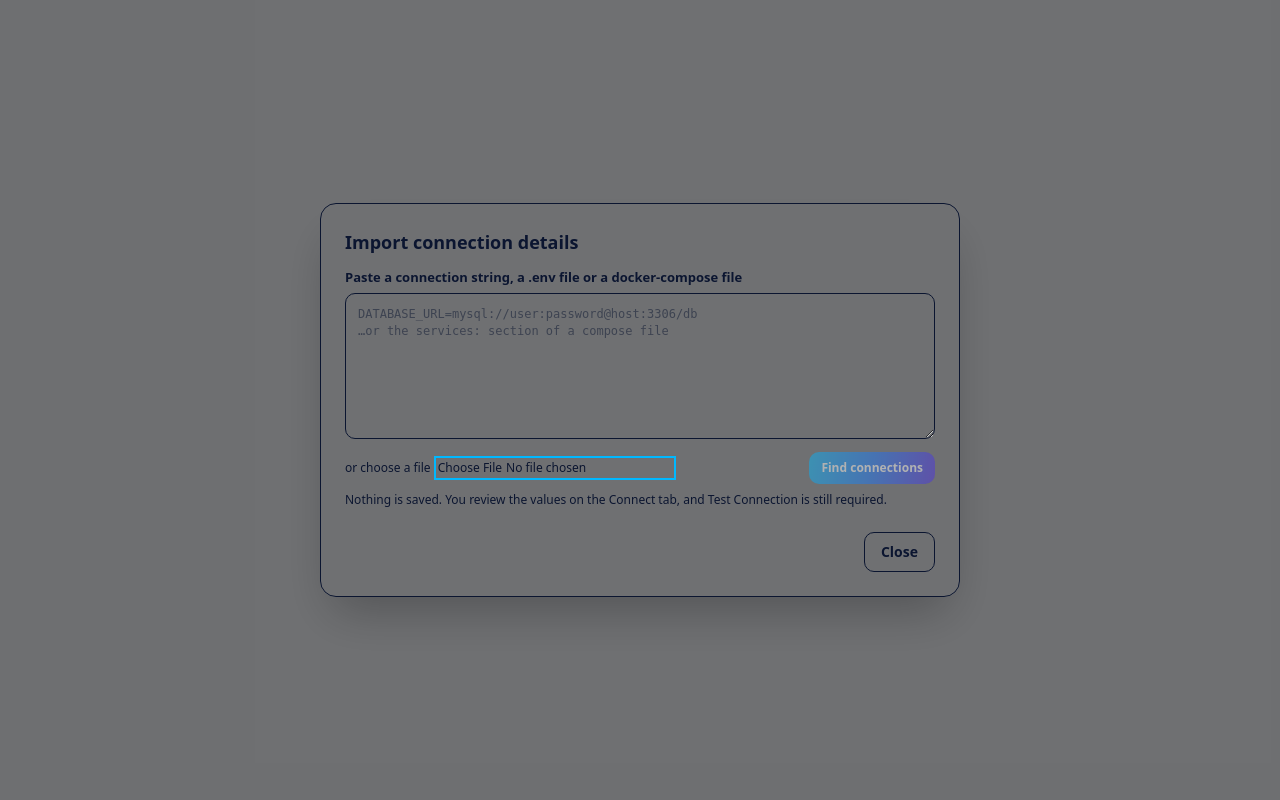
Test: ImportConnectionDialog › restricts to one technology and shows the server message for unrecognised input
This screenshot has width=1280, height=800.
Type "FOO=bar" into the text box labelled "Paste a connection string" at point(640, 366), box [345,293,935,439]
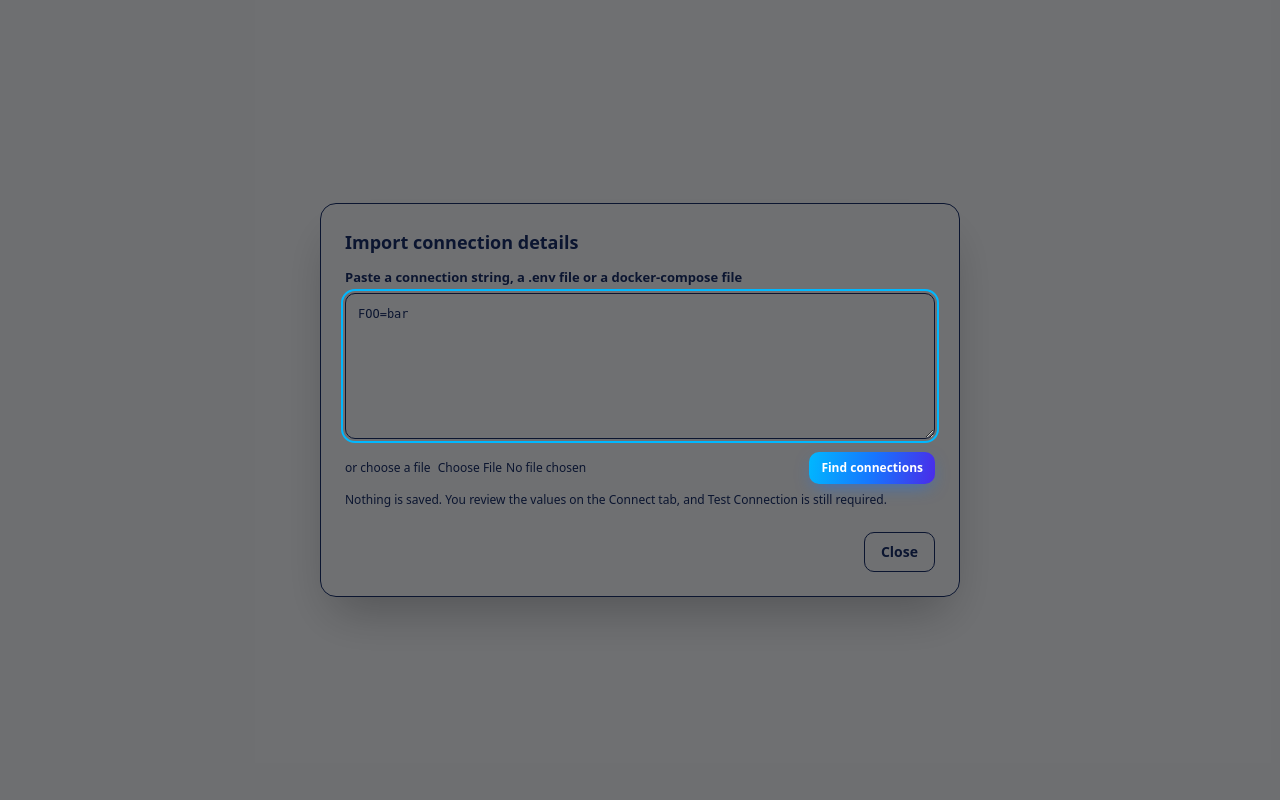
Click the button "Find connections" at point(872, 468), box [809,452,935,484]
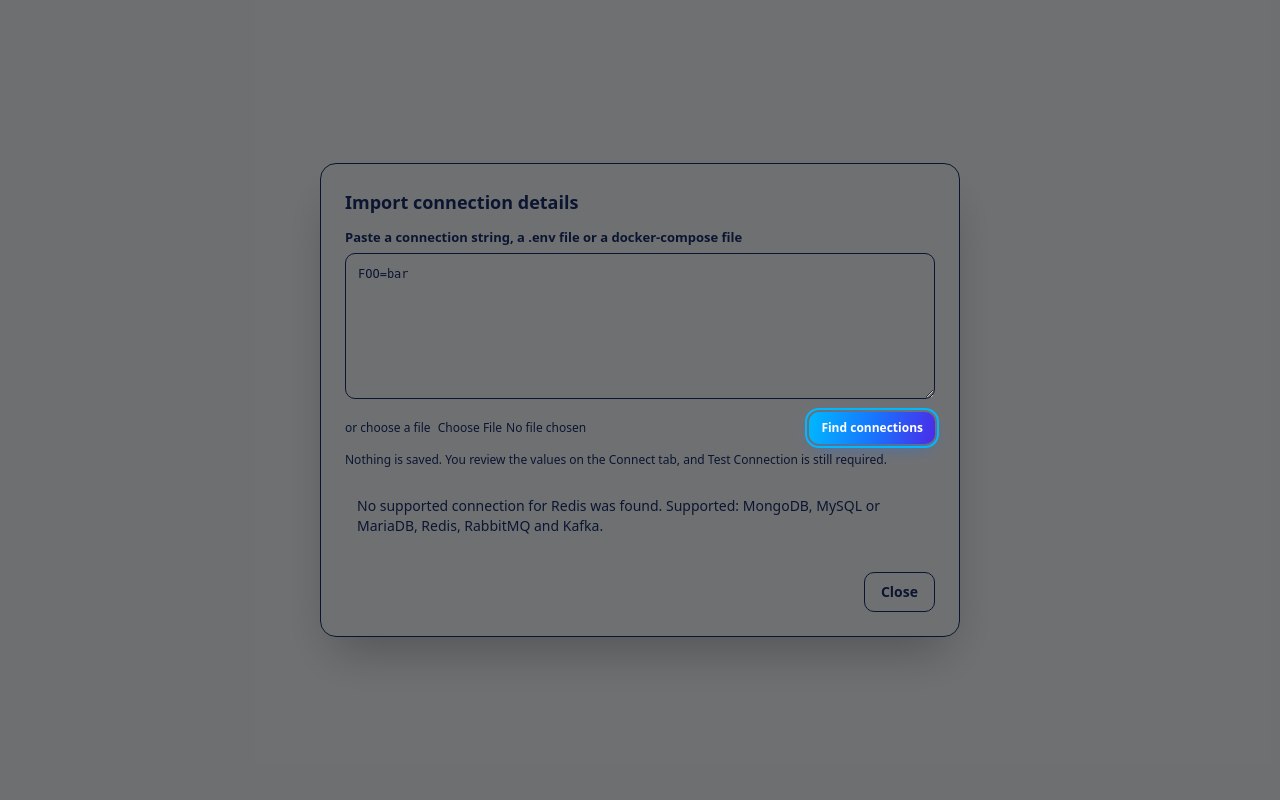
Check: the text "Nothing is saved" is shown, box [345,451,887,468]
Check: the message shows "No supported connection for Redis was found", box [357,496,880,535]
